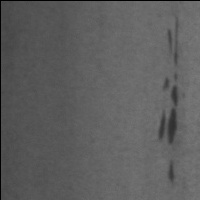inclusion: (158, 14, 183, 108), (155, 105, 182, 148), (164, 156, 179, 185)
